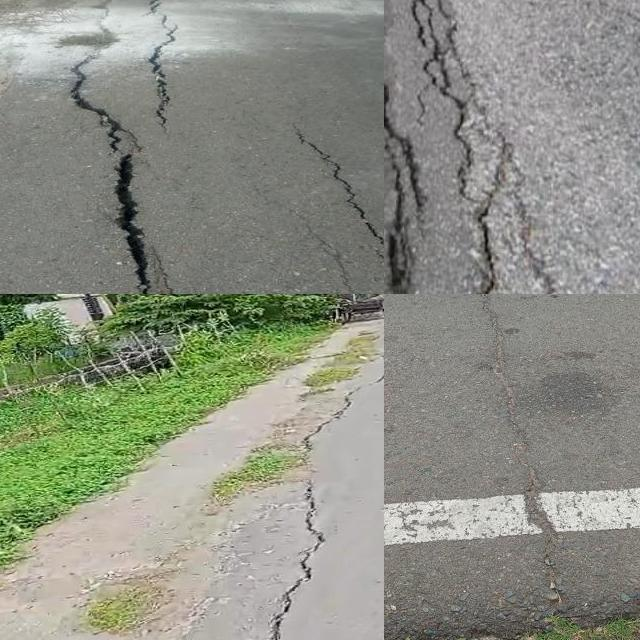Memanjang: (450, 294, 581, 612), (244, 356, 384, 640), (54, 40, 202, 294), (283, 115, 384, 294), (144, 0, 193, 140)
